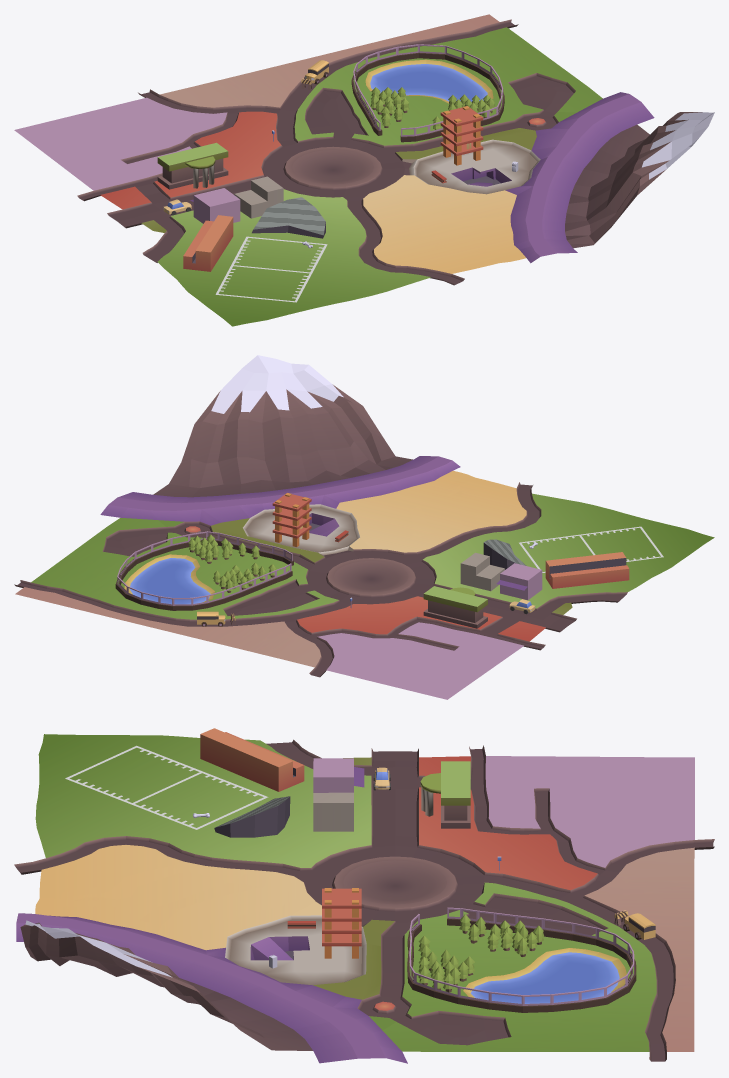
Rendered from city.glb.
3 views of the same model, one above another, from view 1: azimuth 30°, elevation 25°; view 2: azimuth 150°, elevation 25°; view 3: azimuth 270°, elevation 25° (orthographic). The views are drawn at different scales.
Parts seen in each view (by area): view 1: City, ParcFence, Bank, Building_worksite, Trees, TerrainLines; view 2: City, ParcFence, Bank, Trees, Building_worksite, TerrainLines; view 3: City, ParcFence, Trees, Bank, Building_worksite, TerrainLines, SchoolBus.
Boxes of the visible parts, x1,y1,x2,y2 form: City: [14, 14, 714, 326]; ParcFence: [351, 44, 504, 142]; Bank: [157, 142, 228, 189]; Building_worksite: [440, 106, 483, 165]; Trees: [370, 87, 494, 129]; TerrainLines: [215, 236, 327, 302]; City: [14, 355, 714, 699]; ParcFence: [115, 531, 293, 610]; Bank: [423, 586, 487, 628]; Trees: [188, 534, 276, 592]; Building_worksite: [272, 493, 311, 546]; TerrainLines: [519, 526, 663, 572]; City: [14, 728, 714, 1063]; ParcFence: [407, 907, 636, 1012]; Trees: [418, 914, 543, 992]; Bank: [420, 761, 470, 828]; Building_worksite: [322, 888, 361, 958]; TerrainLines: [65, 745, 268, 829]; SchoolBus: [623, 913, 655, 939].
Size of what is drawn, in the model's own units: 15.25 by 2.75 by 13.68.
1 material, 1 textured.
